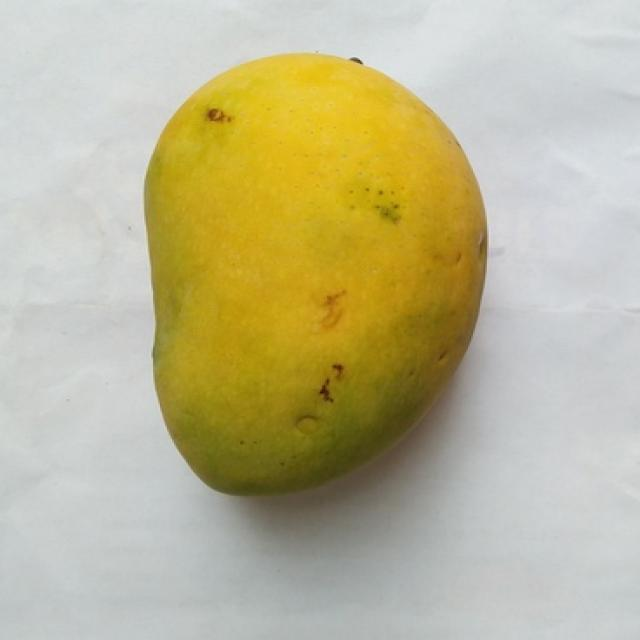Mango: (146, 54, 485, 495)
